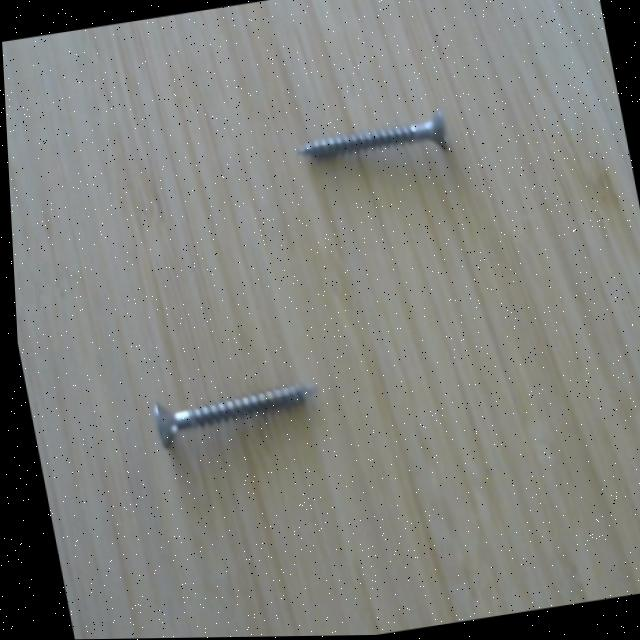Black screw: (135, 369, 332, 455), (288, 102, 460, 181)
